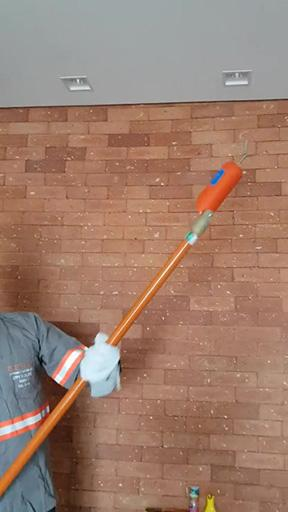Detector_Tensao_Contato: (195, 142, 255, 222)
Vara_Manobra: (1, 217, 215, 491)
